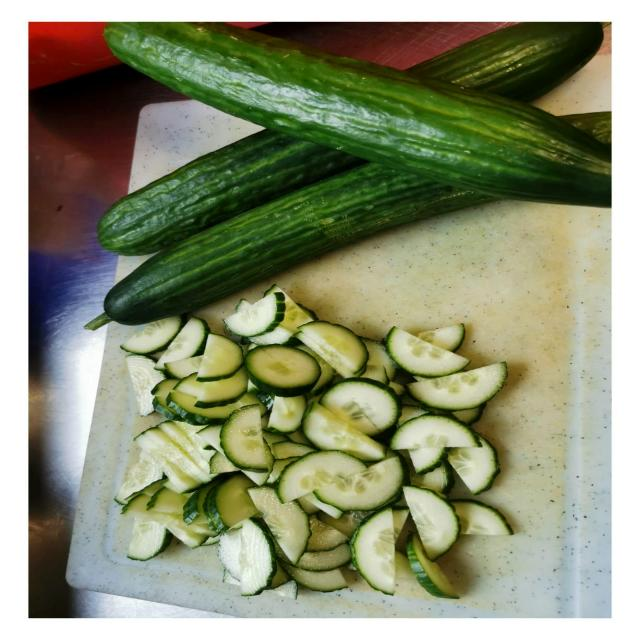cucumber: (116, 294, 514, 600), (95, 26, 610, 211)
